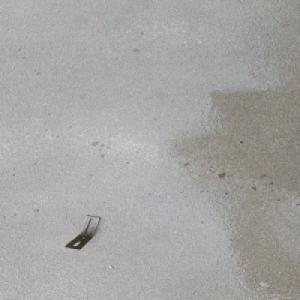MetalPart: (63, 215, 102, 250)
